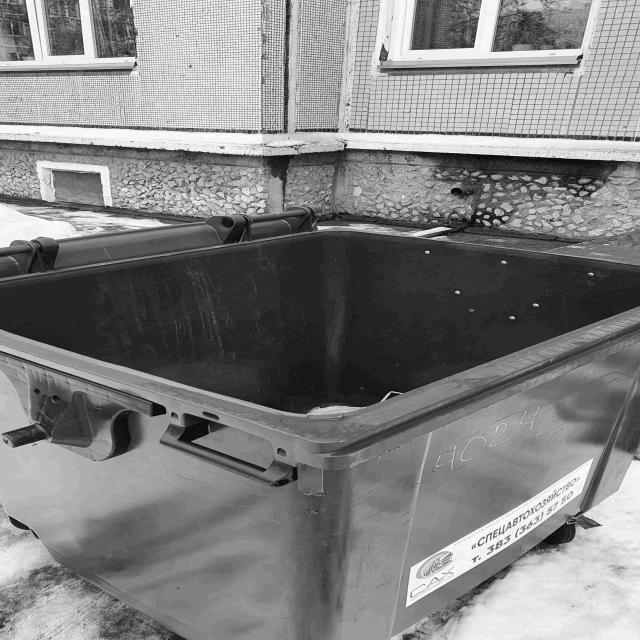bin: (0, 216, 636, 640)
